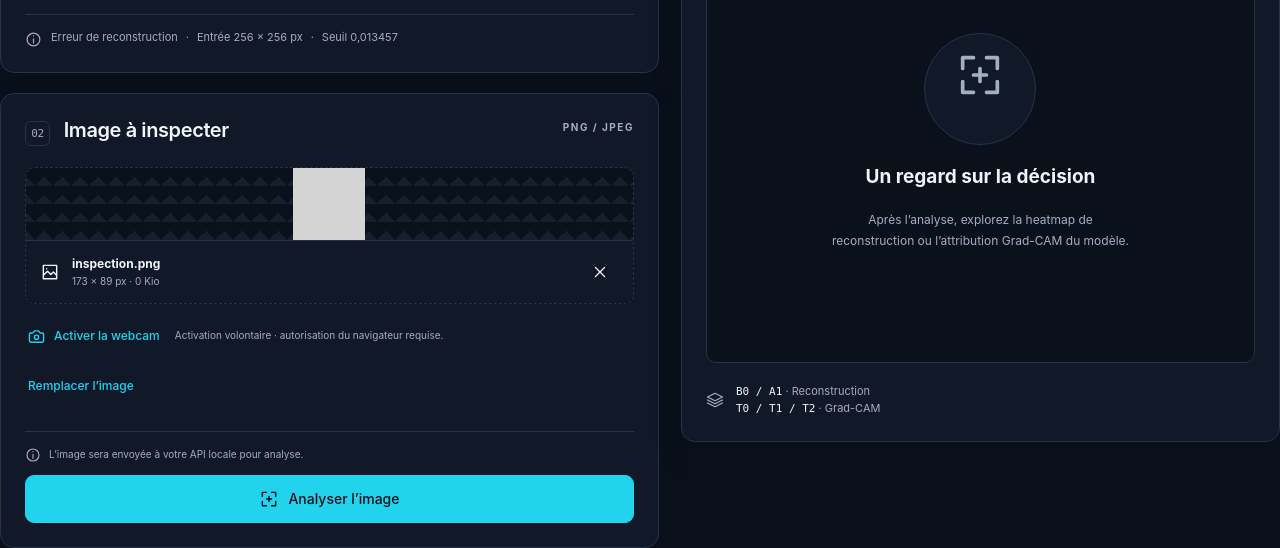
Test: parcours Inspection › verrouille les commandes pendant le calcul et permet l’annulation de l’attente
Earlier steps of the test are not shown.
(page scrolled)
What coordinates should you click on to do the following:
click the button "Analyser l’image"
I would click on:
 (329, 499)
Its box is [25,475,634,523].
(page scrolled)
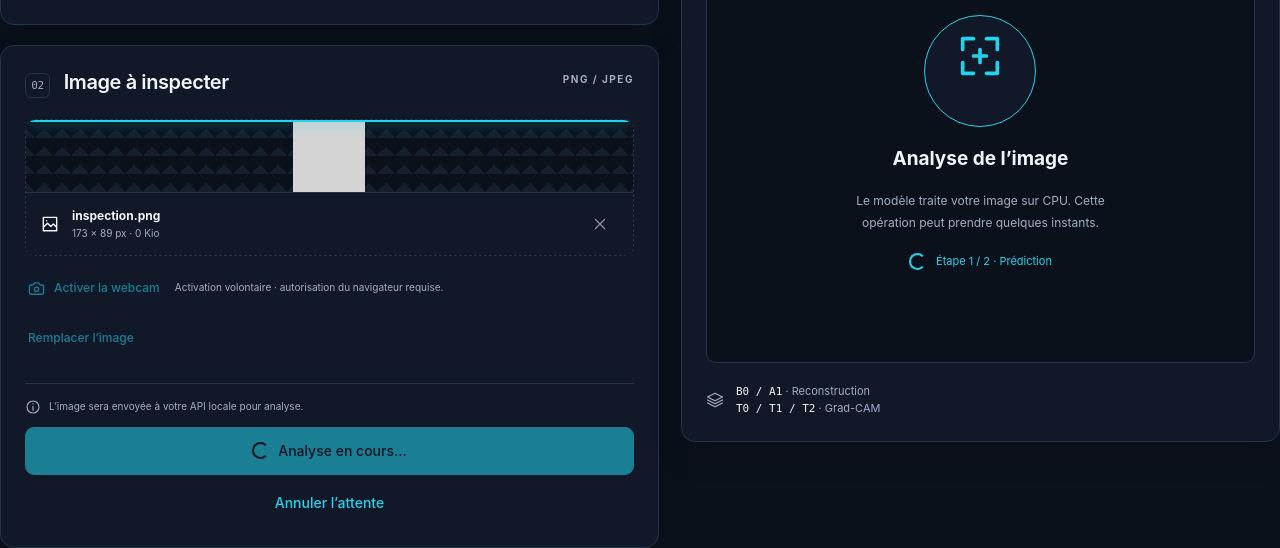
Check: the button "Analyse en cours…" is disabled, box [25,427,634,475]
What coordinates should you click on to do the following:
click the button "Annuler l’attente"
I would click on:
 (329, 503)
Its box is [25,483,634,523].
(page scrolled)
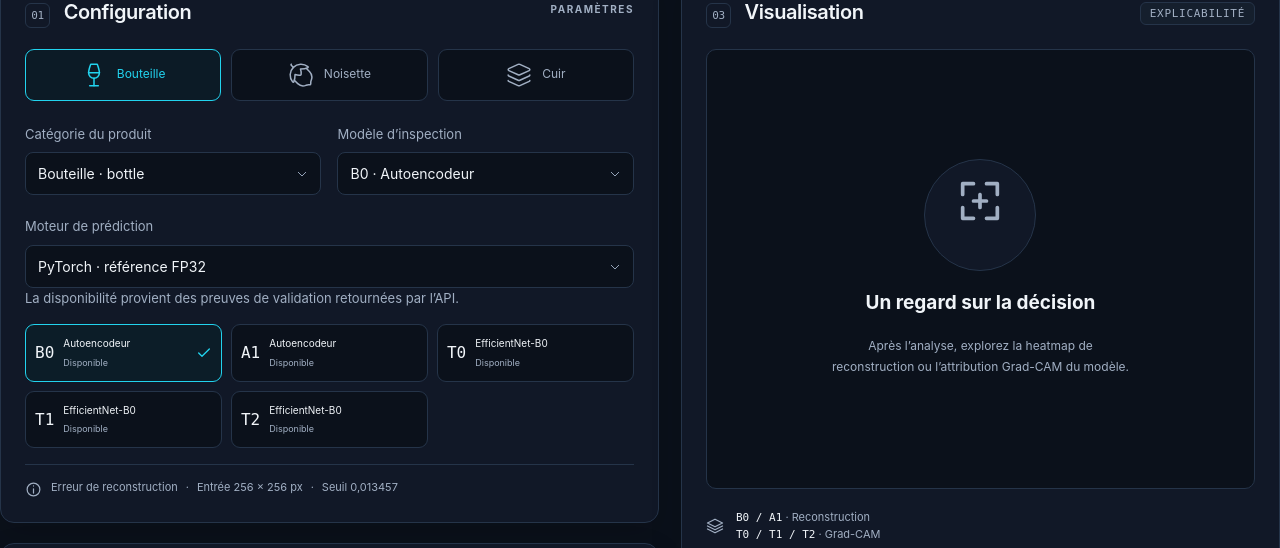
Check: the dropdown labelled "Catégorie du produit" is enabled, box [25,152,322,195]
Check: the message "Étape 1 / 2 · Prédiction" is gone
